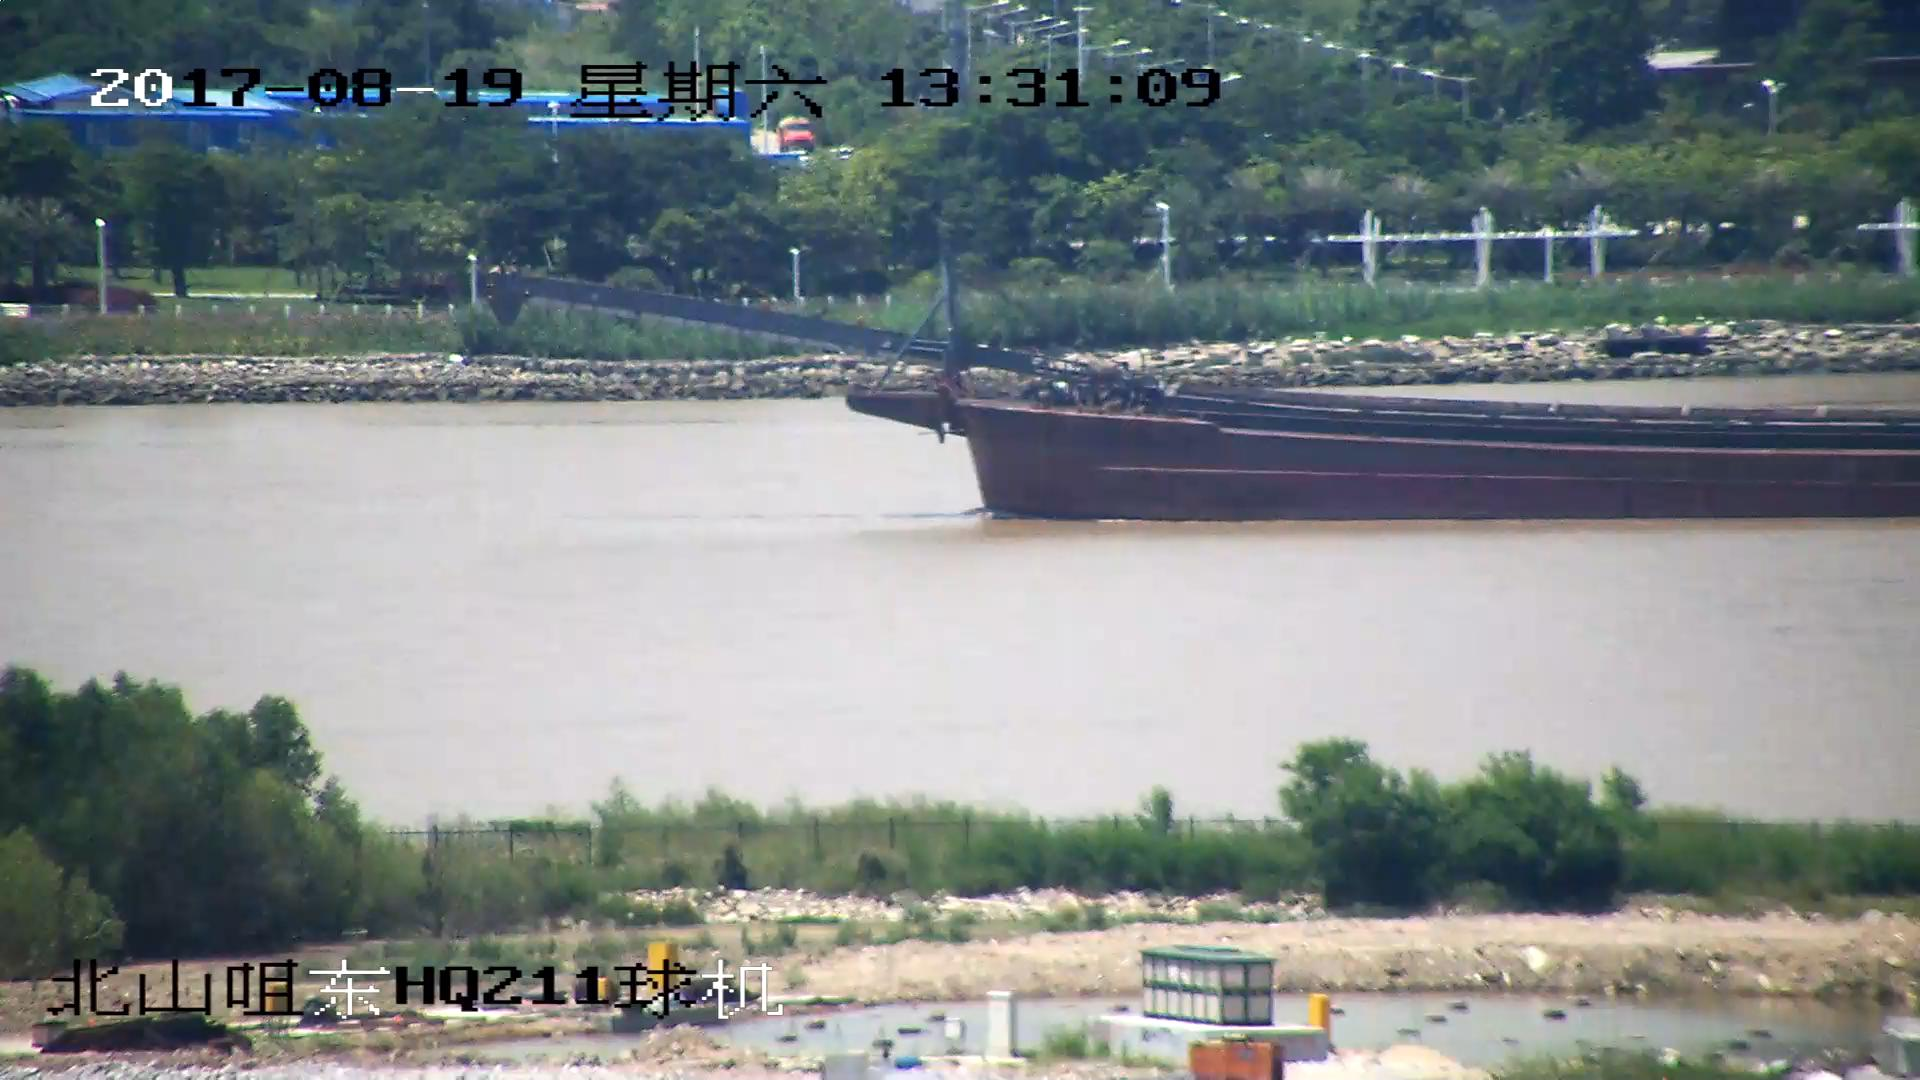bulk cargo carrier: (494, 255, 1920, 523)
